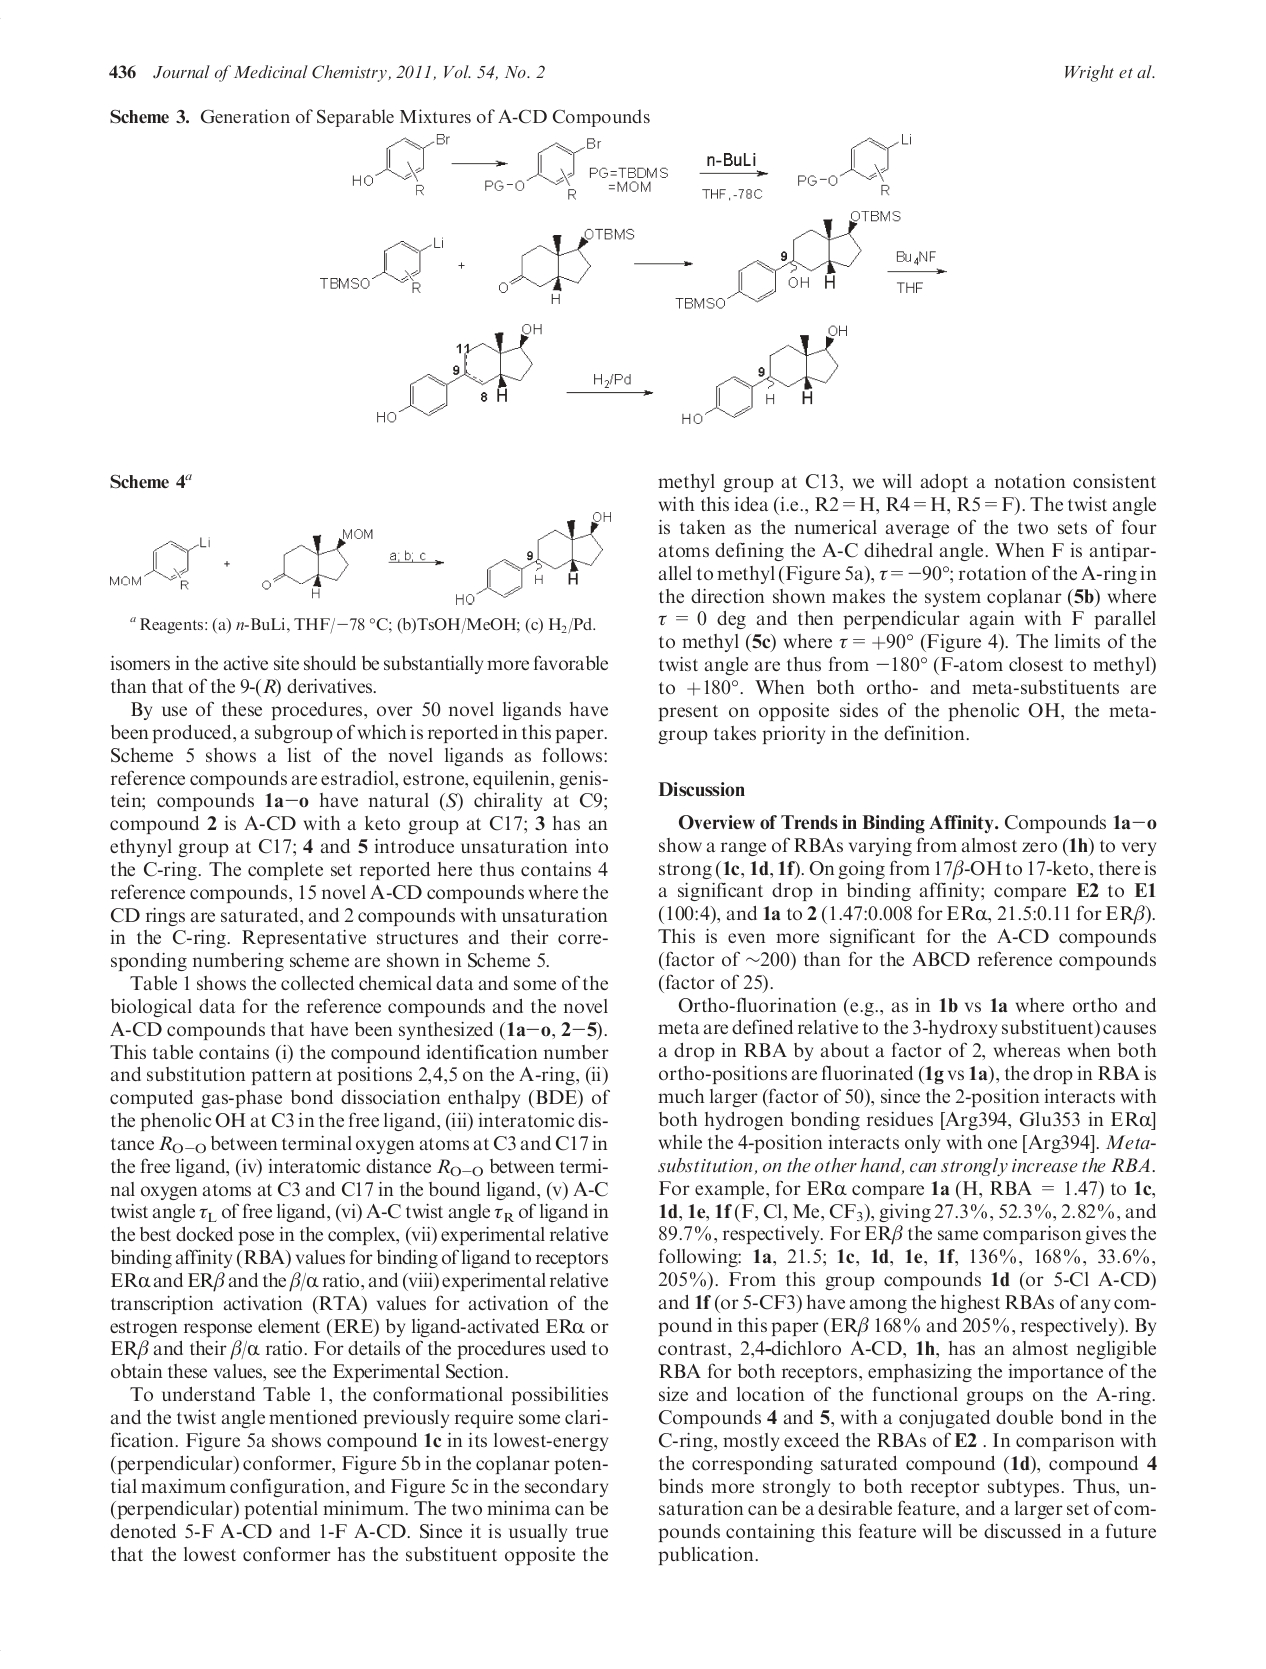exist_molecular: (674, 207, 903, 314), (374, 321, 544, 424), (680, 324, 850, 426), (453, 509, 612, 606), (493, 223, 634, 303), (262, 527, 374, 601), (795, 130, 915, 199), (481, 134, 602, 201), (319, 234, 445, 295), (350, 132, 452, 195), (106, 535, 213, 592)
